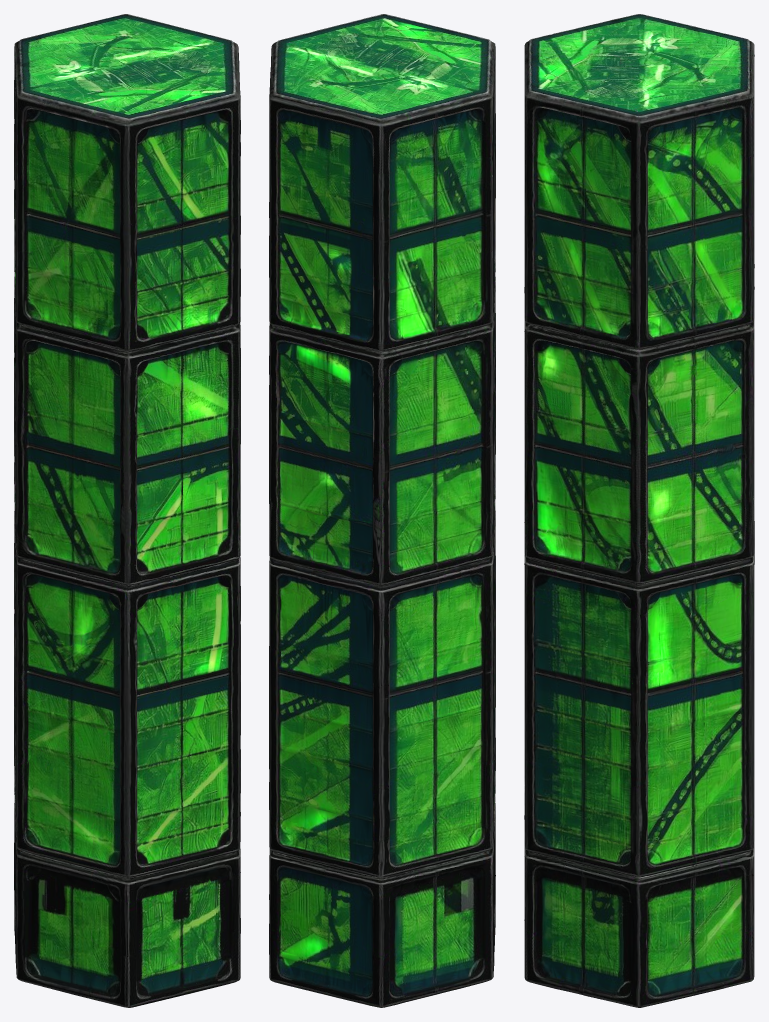
The model's file is tower_green_simplified.glb.
The picture shows the model from 3 angles, left to right: view 1: azimuth 30°, elevation 25°; view 2: azimuth 150°, elevation 25°; view 3: azimuth 270°, elevation 25°; orthographic projection.
Size of the model in its own units: 0.4938 by 1.9 by 0.4442.
Materials: 1 (1 with a texture image).
